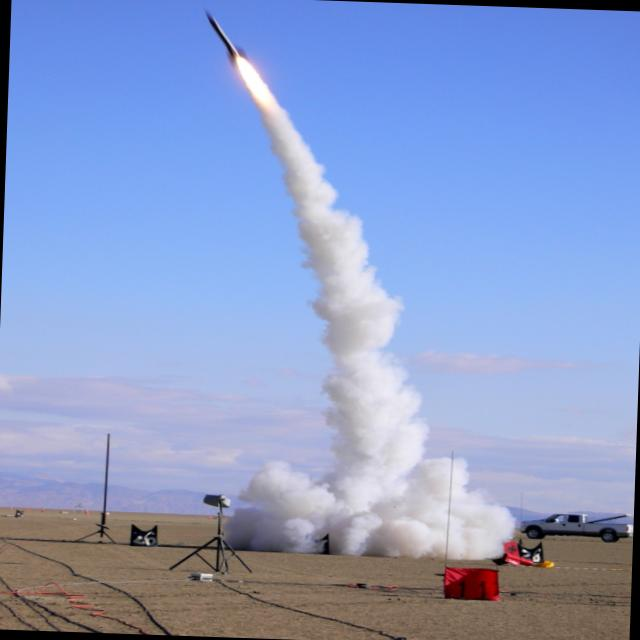rocket: (197, 6, 289, 147)
